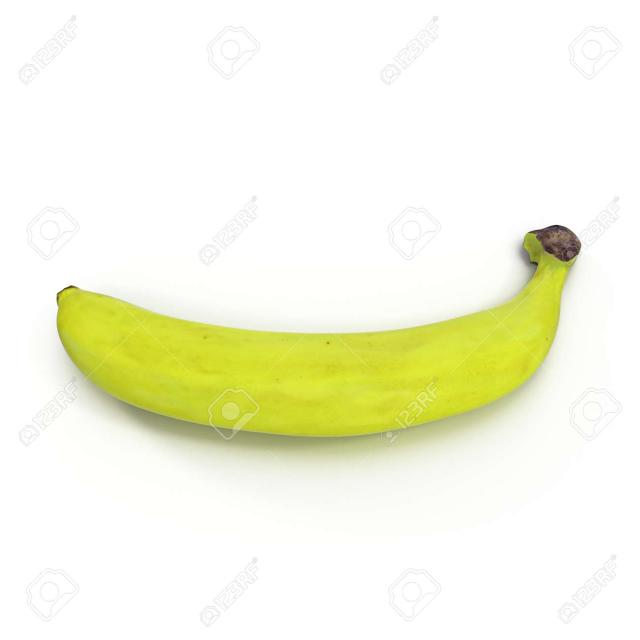non_orange: (56, 222, 579, 439)
